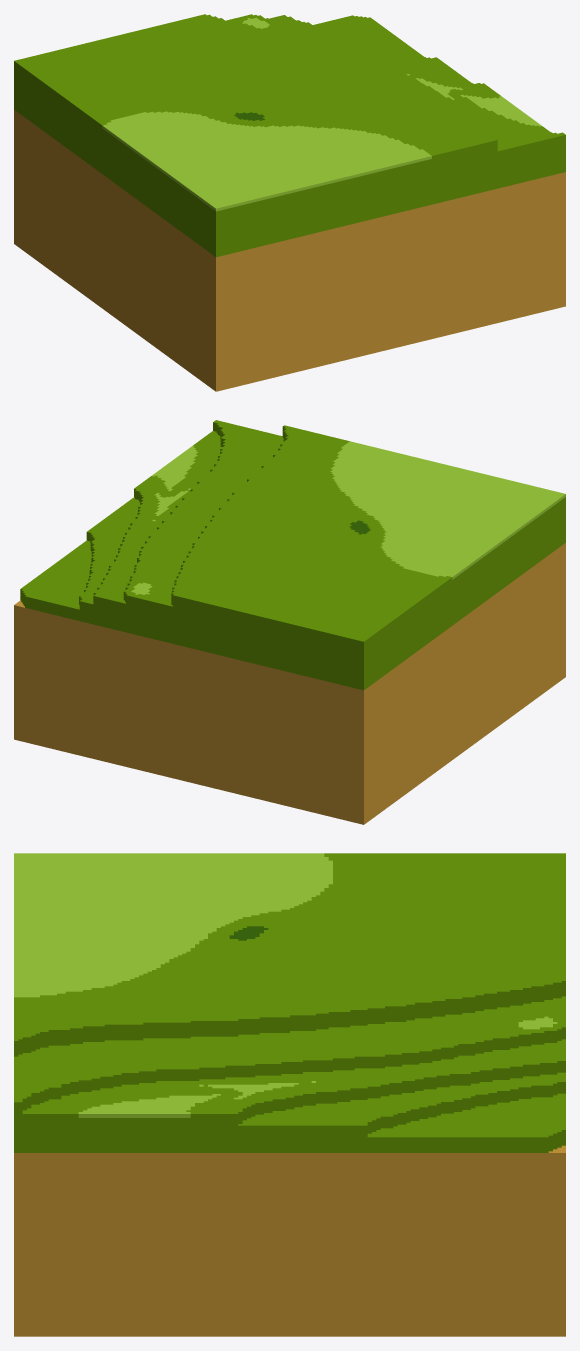
3 renders of one model, top to bottom at view 1: azimuth 30°, elevation 25°; view 2: azimuth 150°, elevation 25°; view 3: azimuth 270°, elevation 25°, orthographic. The views are drawn at different scales.
Parts seen in each view (by area): view 1: 12E; view 2: 12E; view 3: 12E.
Boxes of the visible parts, x1,y1,x2,y2 form: 12E: [14, 14, 565, 391]; 12E: [14, 420, 565, 824]; 12E: [14, 853, 565, 1336].
Size of the model in its own units: 12.8 by 6.4 by 12.8.
Materials: 1 (1 with a texture image).
